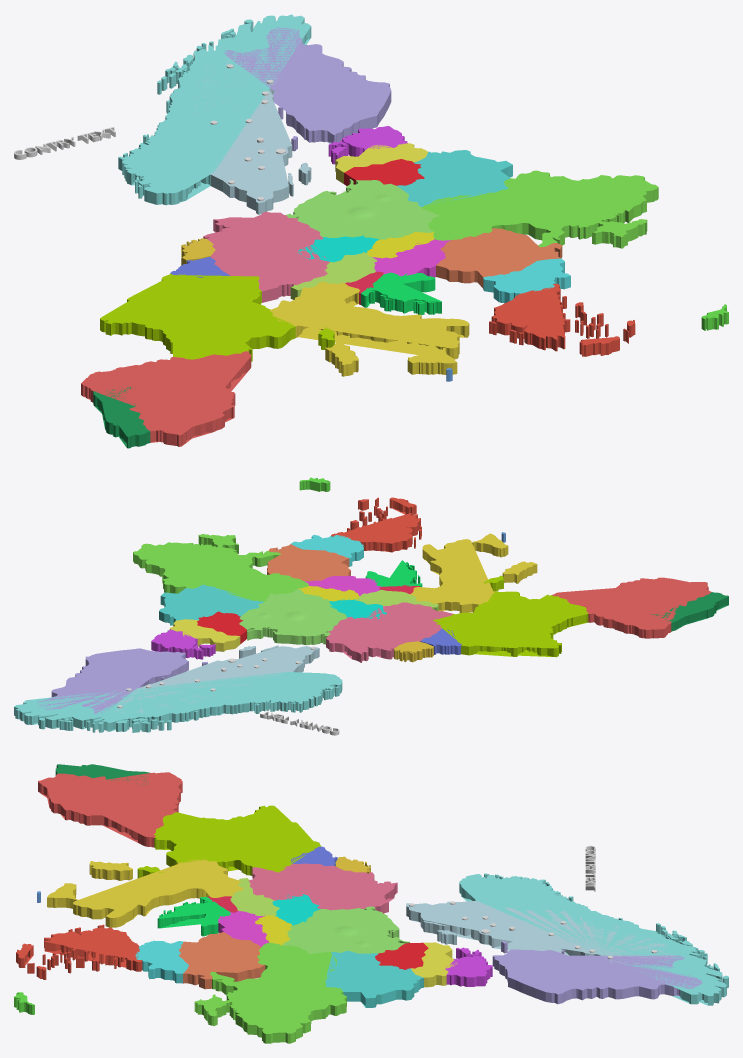
The model's file is EUmap.fbx.
The picture shows the model from 3 angles, top to bottom: view 1: azimuth 30°, elevation 25°; view 2: azimuth 150°, elevation 25°; view 3: azimuth 270°, elevation 25°; orthographic projection. The views are drawn at different scales.
Parts seen in each view (by area): view 1: Norway Flat, Ukraina, France, Finland Flat, Spain, Italy, Tyskland, Sweden Flat, Poland, Greece, Rumanien, Vitryssland (+12 smaller); view 2: Norway Flat, France, Ukraina, Spain, Finland Flat, Italy, Tyskland, Sweden Flat, Poland, Greece, Vitryssland, Rumanien (+14 smaller); view 3: Norway Flat, Ukraina, Finland Flat, France, Sweden Flat, Spain, Italy, Tyskland, Poland, Greece, Vitryssland, Rumanien (+12 smaller).
Boxes of the visible parts, x1,y1,x2,y2 form: Norway Flat: [118, 14, 311, 205]; Ukraina: [421, 170, 658, 248]; France: [100, 274, 334, 361]; Finland Flat: [224, 27, 391, 151]; Spain: [81, 351, 251, 446]; Italy: [270, 281, 469, 376]; Tyskland: [203, 211, 329, 302]; Sweden Flat: [187, 55, 311, 214]; Poland: [286, 179, 439, 239]; Greece: [489, 283, 635, 356]; Rumanien: [436, 228, 562, 288]; Vitryssland: [397, 150, 512, 206]; Norway Flat: [14, 672, 342, 732]; France: [432, 575, 588, 657]; Ukraina: [133, 534, 308, 601]; Spain: [552, 577, 711, 638]; Finland Flat: [37, 648, 207, 714]; Italy: [410, 533, 537, 612]; Tyskland: [326, 602, 453, 662]; Sweden Flat: [99, 645, 319, 713]; Poland: [239, 589, 347, 636]; Greece: [331, 497, 421, 552]; Vitryssland: [159, 584, 263, 625]; Rumanien: [267, 544, 350, 581]; Norway Flat: [459, 873, 728, 1005]; Ukraina: [194, 942, 346, 1043]; Finland Flat: [492, 940, 702, 1004]; France: [137, 805, 320, 878]; Sweden Flat: [406, 900, 676, 965]; Spain: [38, 772, 182, 847]; Italy: [47, 858, 243, 927]; Tyskland: [248, 863, 397, 913]; Poland: [283, 906, 409, 954]; Greece: [16, 924, 142, 979]; Vitryssland: [325, 951, 423, 1007]; Rumanien: [179, 932, 265, 989].
Bounding box in the file's own units: 1180 × 24.4 × 1322.
